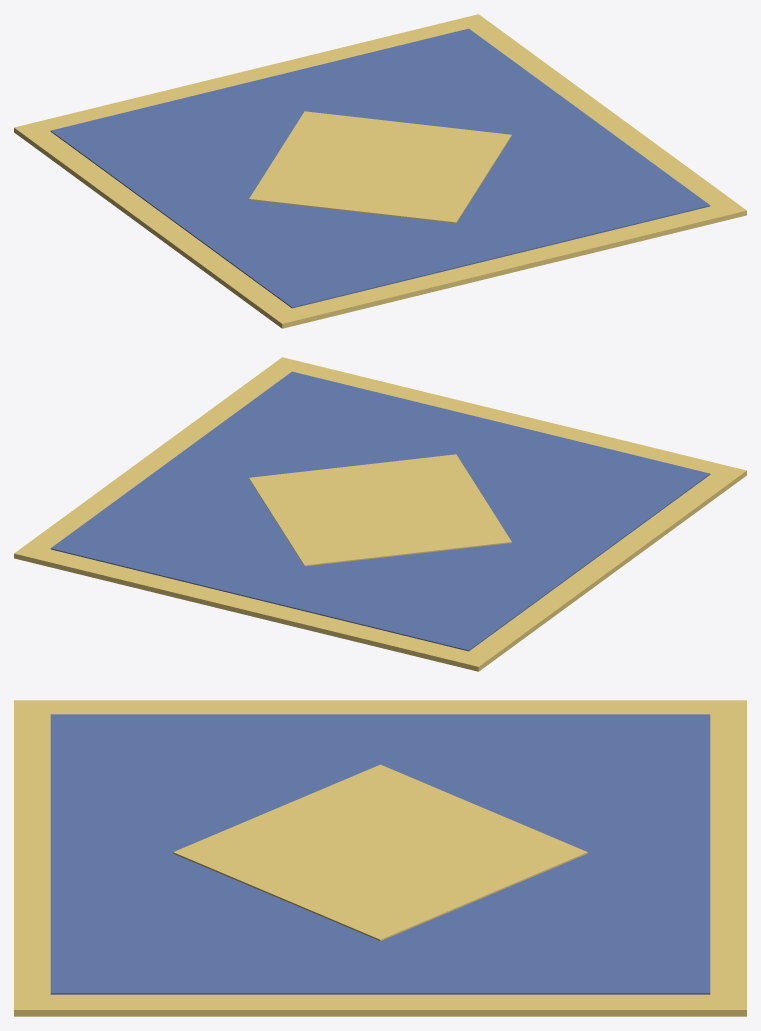
The model's file is rug_blue.glb.
3 renders of one model, top to bottom at view 1: azimuth 30°, elevation 25°; view 2: azimuth 150°, elevation 25°; view 3: azimuth 270°, elevation 25°, orthographic. The views are drawn at different scales.
Visible parts, largest first — view 1: rug_blue; view 2: rug_blue; view 3: rug_blue.
Part boxes in pixels (bbox=[...]): rug_blue: bbox=[14, 14, 746, 328]; rug_blue: bbox=[14, 357, 746, 671]; rug_blue: bbox=[14, 700, 746, 1016].
Size of the model in its own units: 2 by 0.03 by 2.
